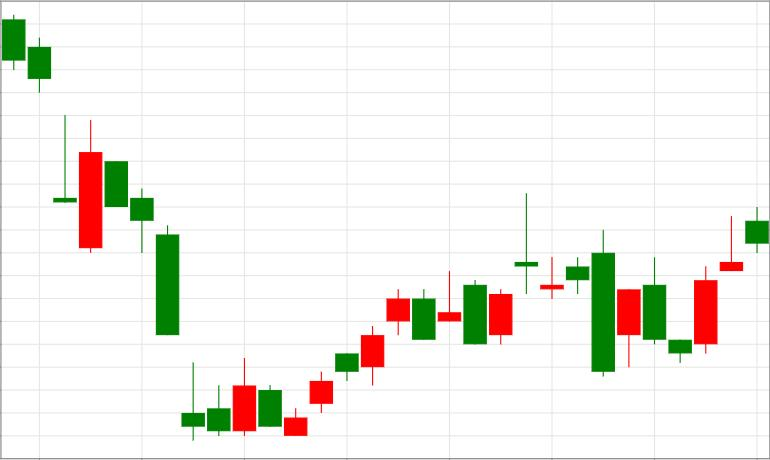bearish_engulfing_fall: (284, 289, 436, 436)
